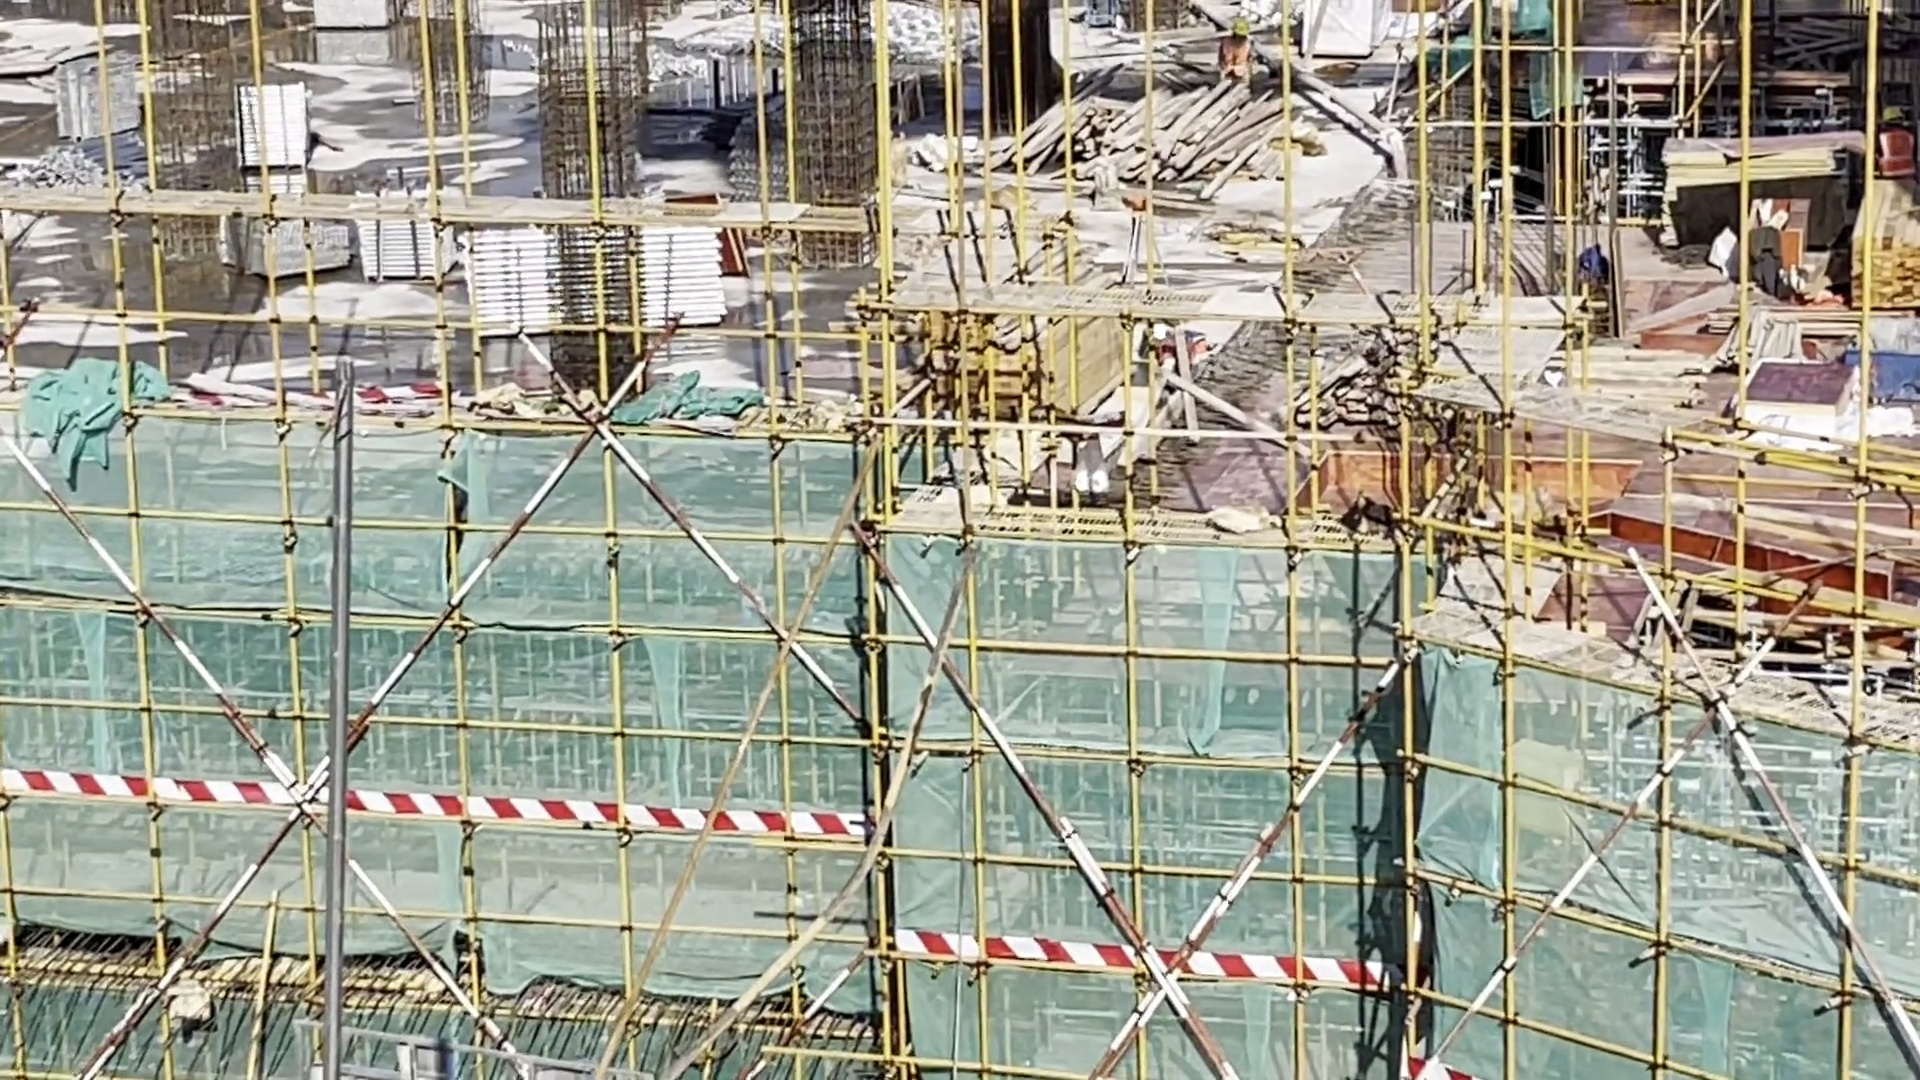helmet: (1144, 323, 1167, 343)
hopper: (1837, 333, 1920, 400)
person: (1211, 18, 1258, 82)
scaffold: (458, 224, 758, 348), (329, 179, 467, 289), (231, 72, 309, 182)
vest: (1219, 41, 1250, 71)
wood: (1004, 78, 1318, 197), (888, 308, 1128, 429)
